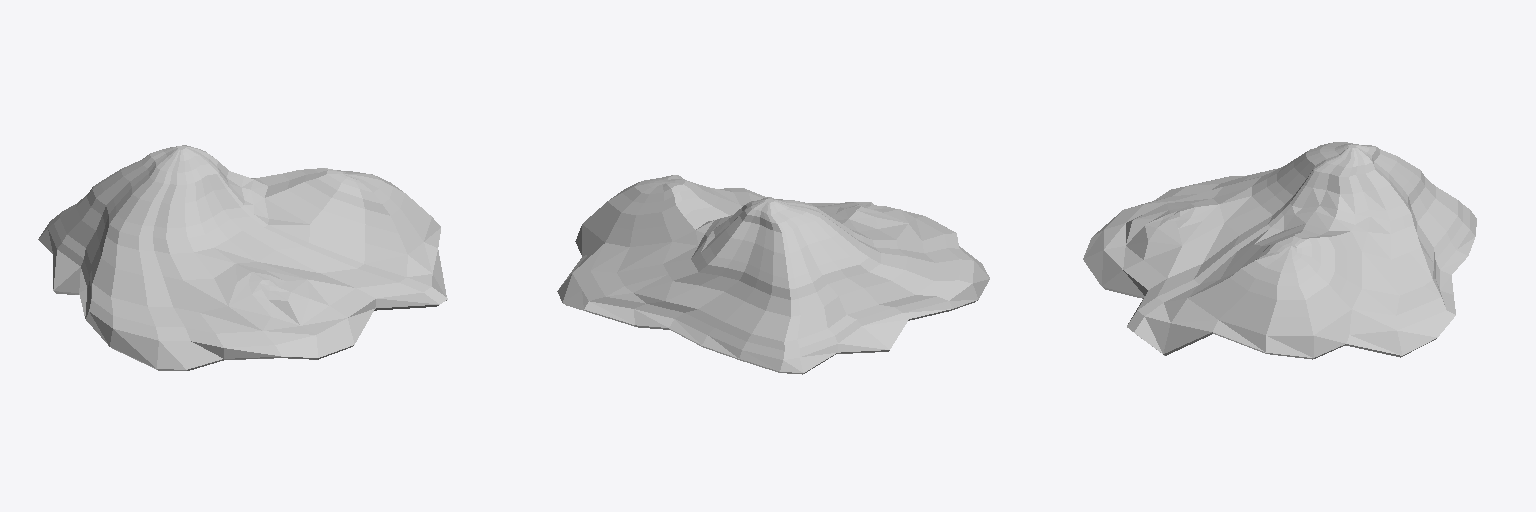
File: island3.obj
3 views of the same model, side by side, from view 1: azimuth 30°, elevation 25°; view 2: azimuth 150°, elevation 25°; view 3: azimuth 270°, elevation 25° (orthographic).
Parts seen in each view (by area): view 1: Cube; view 2: Cube; view 3: Cube.
Boxes of the visible parts, x1,y1,x2,y2 form: Cube: [38, 145, 447, 370]; Cube: [557, 175, 989, 374]; Cube: [1083, 142, 1476, 359].
Size of the model in its own units: 15.66 by 7.64 by 14.98.